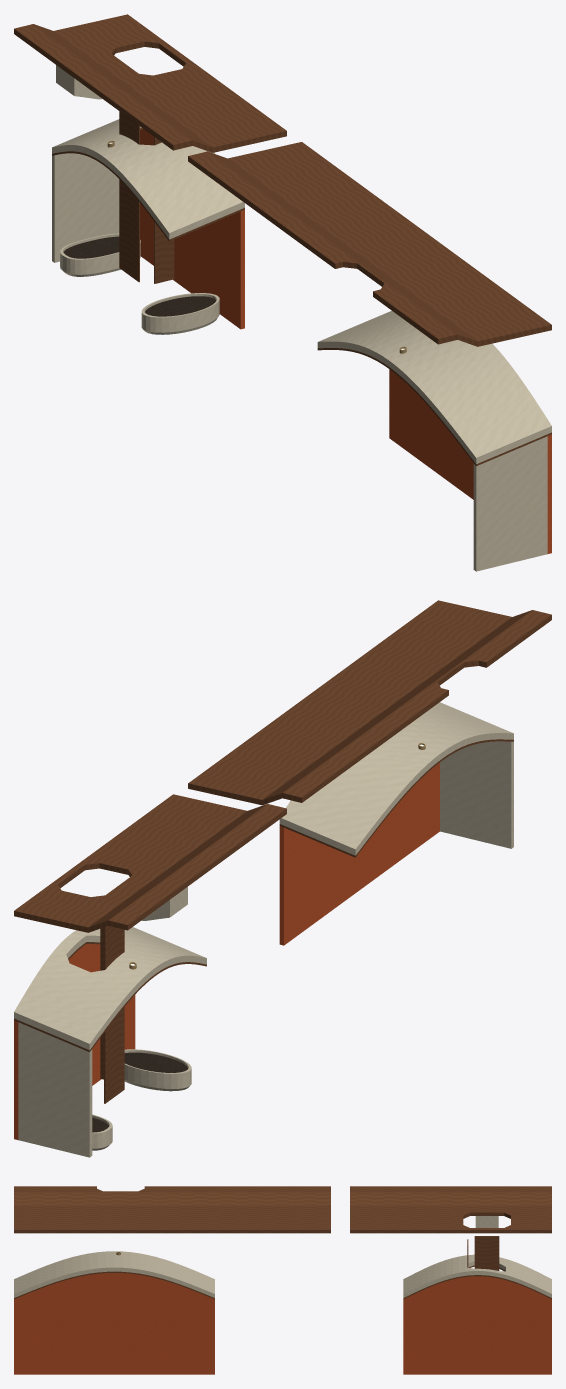
Rendered from AST-AQU-016_connected_gallery_surroundings.glb.
3 renders of one model, top to bottom at view 1: azimuth 30°, elevation 25°; view 2: azimuth 150°, elevation 25°; view 3: azimuth 270°, elevation 25°, orthographic. The views are drawn at different scales.
Parts seen in each view (by area): view 1: CG_UpperCrown_1_2_0, CG_Aft_OuterBearing, CG_Fore_ClayWall, CG_Fore_OuterBearing, CG_Market_ClayWall, CG_UpperCrown_0_2_3, CG_UpperCrown_0_0_0, CG_UpperCrown_1_0_0, CG_UpperCrown_0_2_0, CG_Pier4_WestBearingFace, CG_UpperCrown_1_1_0, CG_DirectoryBed_Container (+24 smaller); view 2: CG_UpperCrown_1_2_0, CG_Market_ClayWall, CG_Fore_OuterBearing, CG_Aft_OuterBearing, CG_UpperCrown_0_2_3, CG_UpperCrown_0_0_0, CG_UpperCrown_1_0_0, CG_UpperCrown_0_2_0, CG_Pier4_WestBearingFace, CG_Fore_ClayWall, CG_UpperCrown_1_1_0, CG_Market_Vault_00_0_Cap (+19 smaller); view 3: CG_Market_ClayWall, CG_Fore_ClayWall, CG_UpperCrown_1_2_0, CG_UpperCrown_1_1_0, CG_UpperCrown_0_1_0, CG_UpperCrown_0_2_3, CG_UpperCrown_0_0_0, CG_UpperCrown_1_0_0, CG_UpperCrown_0_2_0, CG_UpperCrown_0_2_2, CG_Pier4_WestBearingFace, CG_UpperCrown_1_0_3 (+4 smaller).
Part boxes in pixels (x1,y1,x2,y2): CG_UpperCrown_1_2_0: (228,142,551,346); CG_Aft_OuterBearing: (473,436,547,571); CG_Fore_ClayWall: (140,129,244,329); CG_Fore_OuterBearing: (52,153,119,262); CG_Market_ClayWall: (389,369,551,553); CG_UpperCrown_0_2_3: (157,63,280,152); CG_UpperCrown_0_0_0: (14,24,192,150); CG_UpperCrown_1_0_0: (188,151,353,268); CG_UpperCrown_0_2_0: (54,14,159,54); CG_Pier4_WestBearingFace: (119,111,139,282); CG_UpperCrown_1_1_0: (208,151,477,346); CG_DirectoryBed_Container: (141,293,219,334); CG_UpperCrown_1_2_0: (188,600,511,805); CG_Market_ClayWall: (279,762,439,945); CG_Fore_OuterBearing: (18,1022,92,1157); CG_Aft_OuterBearing: (440,741,513,848); CG_UpperCrown_0_2_3: (85,796,246,870); CG_UpperCrown_0_0_0: (108,804,286,930); CG_UpperCrown_1_0_0: (282,685,448,802); CG_UpperCrown_0_2_0: (14,887,120,932); CG_Pier4_WestBearingFace: (104,926,124,1103); CG_Fore_ClayWall: (14,944,135,1139); CG_UpperCrown_1_1_0: (262,610,531,805); CG_Market_Vault_00_0_Cap: (279,807,362,855); CG_Market_ClayWall: (14,1273,214,1374); CG_Fore_ClayWall: (403,1276,551,1374); CG_UpperCrown_1_2_0: (14,1206,330,1233); CG_UpperCrown_1_1_0: (14,1192,330,1205); CG_UpperCrown_0_1_0: (350,1192,551,1205); CG_UpperCrown_0_2_3: (350,1206,469,1227); CG_UpperCrown_0_0_0: (350,1186,551,1192); CG_UpperCrown_1_0_0: (144,1186,330,1192); CG_UpperCrown_0_2_0: (511,1206,551,1233); CG_UpperCrown_0_2_2: (350,1228,503,1233); CG_Pier4_WestBearingFace: (474,1236,499,1270); CG_UpperCrown_1_0_3: (14,1186,102,1191).
Bounding box in the file's own units: 3.98 × 8.08 × 25.7.
6 materials, 5 textured.
